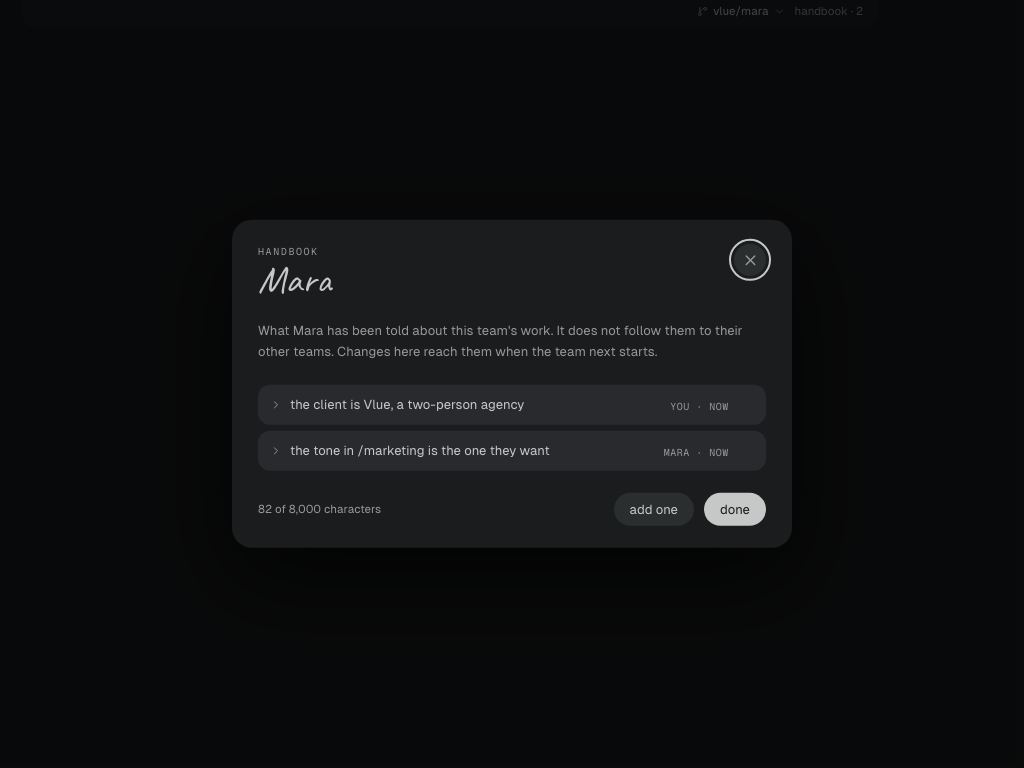
Test case: the panel › folds each entry to its first line, and opens the one you asked for
Click the 2nd button with class "hbt": coordinates (461, 451) [270,440,652,461]
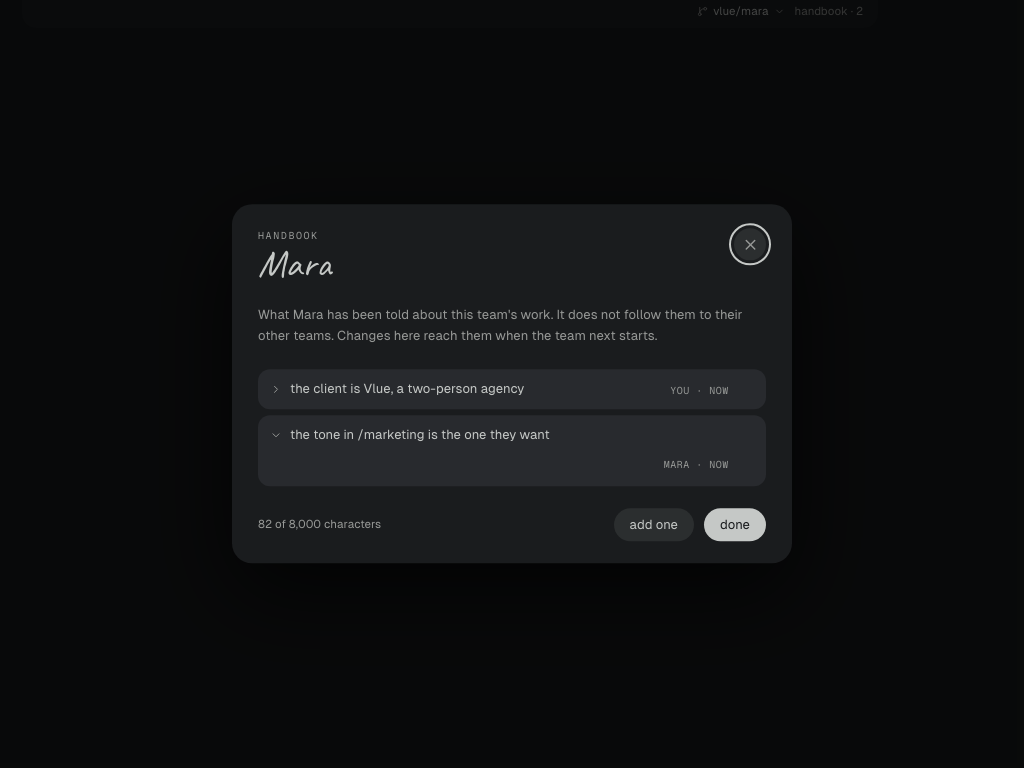
Expected: the element with class "hbentry" shows "the client is Vlue, a two-person agency", [270,379,658,399]
Expected: the button with class "hbt" is expanded, [270,425,754,445]
